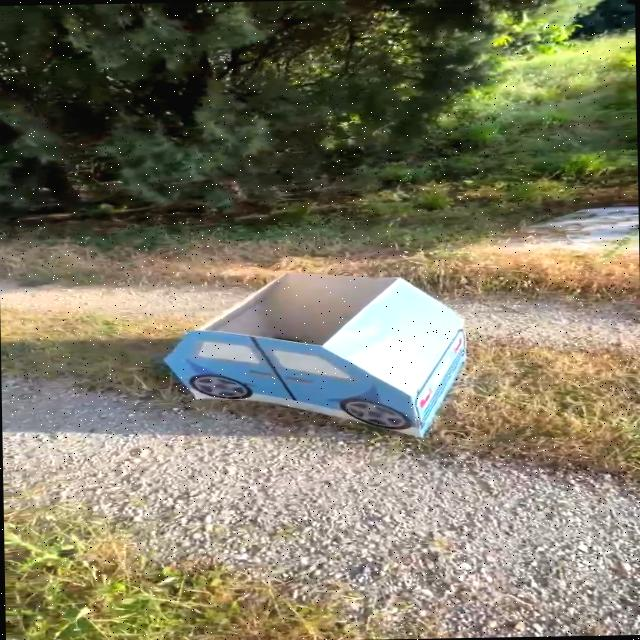blue_car: (141, 240, 541, 438)
